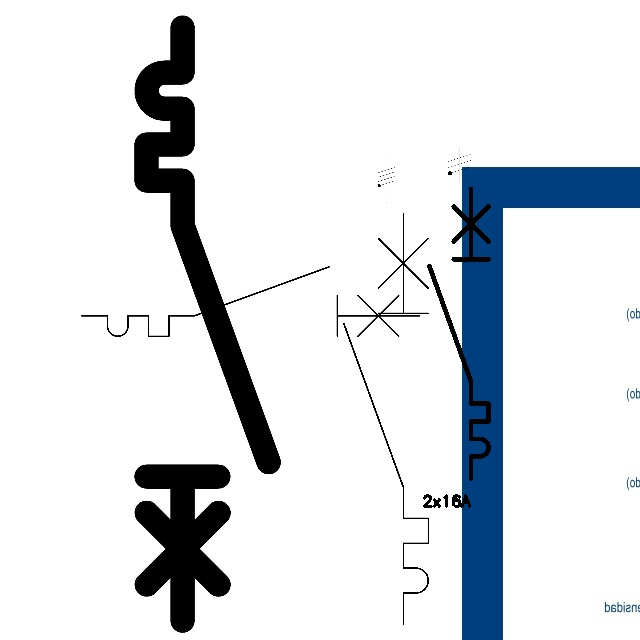interruptor_termomagnetico: (131, 12, 283, 635), (333, 202, 439, 634), (73, 258, 428, 345), (422, 181, 496, 486)
